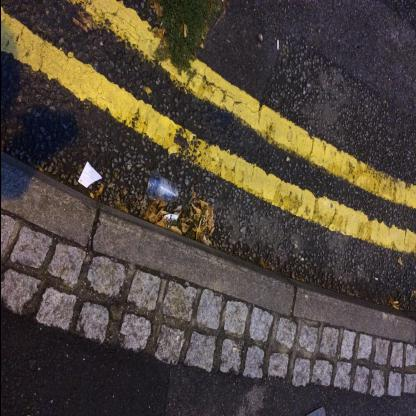kagit: (77, 162, 102, 190), (163, 215, 179, 225)
plastik: (147, 171, 179, 204)
